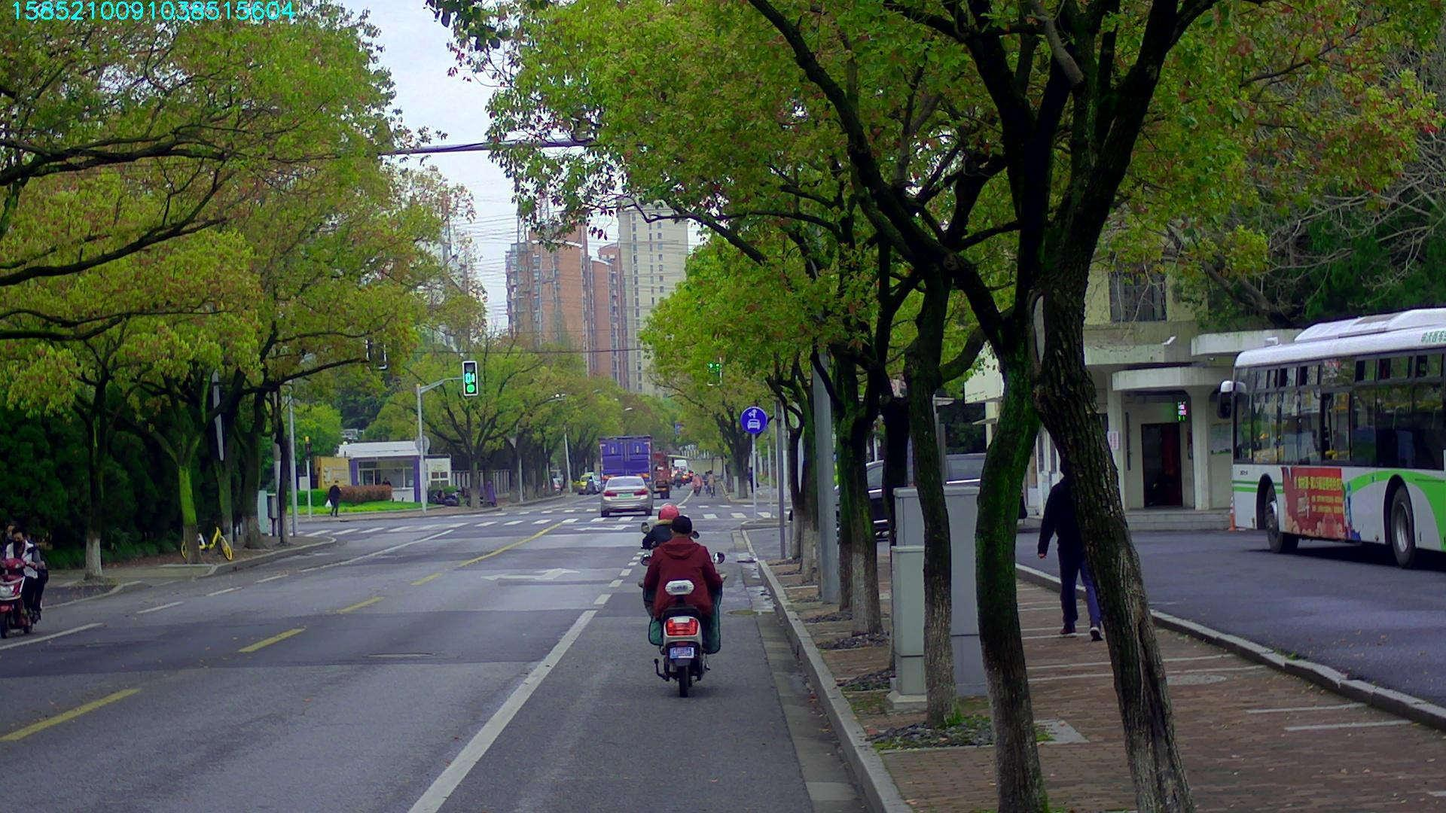green: (462, 361, 477, 394), (707, 358, 719, 384)
